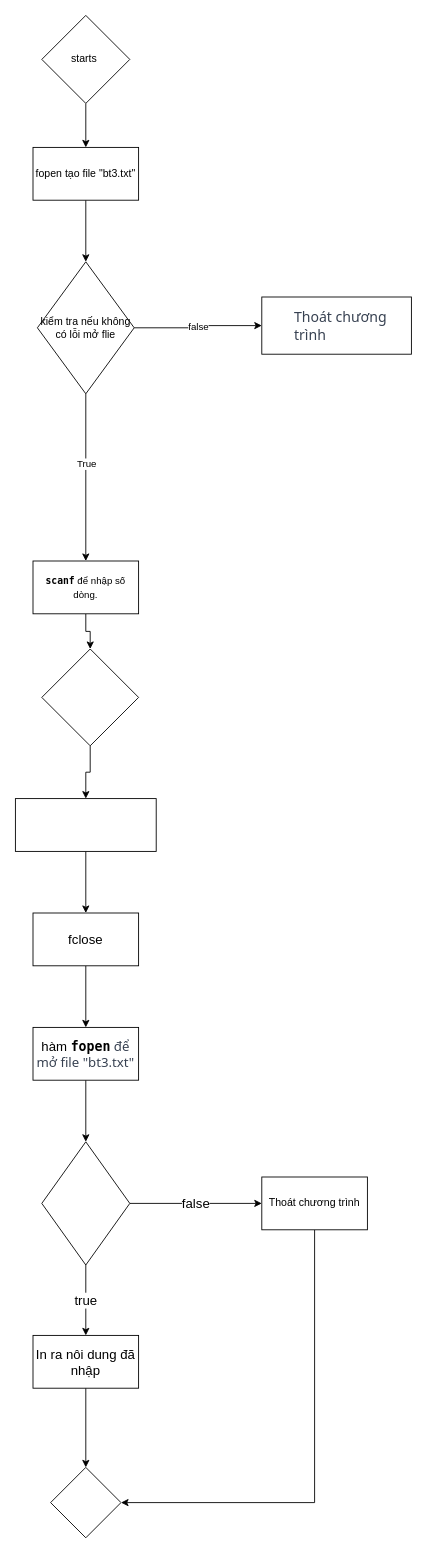
The diagram is 427 pixels wide and 1553 high, and some of its shapes have lost their labels. The centre of each missing label's shape, as x and y in pixels:
"Dùng vòng lặp for" goes at (90,697).
"End" goes at (85,1502).
"kiểm tra lỗi để mở file" goes at (85,1203).
"nhập nội dung dòng và sử dụng fgets để đọc và lưu vào file." goes at (85,824).
